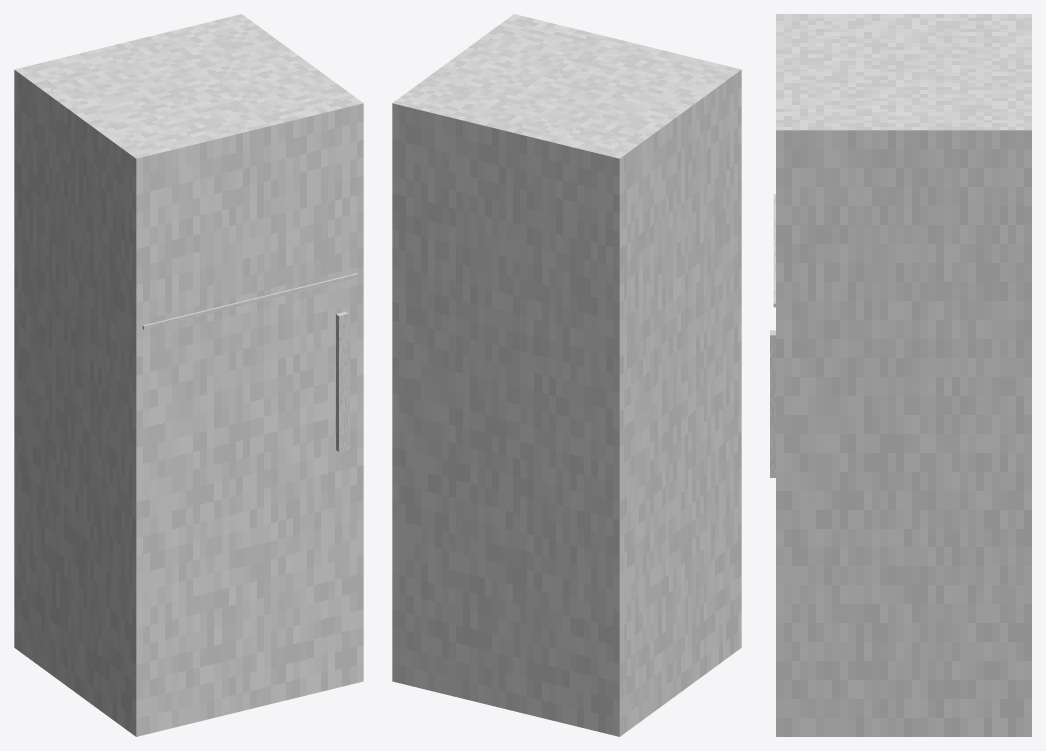
Rendered from refrigerator.obj.
The picture shows the model from 3 angles, left to right: view 1: azimuth 30°, elevation 25°; view 2: azimuth 150°, elevation 25°; view 3: azimuth 270°, elevation 25°; orthographic projection. The views are drawn at different scales.
Visible parts, largest first — view 1: part0, part2, part1; view 2: part0; view 3: part0, part2.
Part boxes in pixels (bbox=[...]): part0: bbox=[14, 14, 363, 736]; part2: bbox=[336, 311, 348, 451]; part1: bbox=[142, 273, 358, 329]; part0: bbox=[392, 14, 741, 736]; part0: bbox=[776, 14, 1031, 736]; part2: bbox=[770, 330, 775, 477].
Size of the model in its own units: 0.7 by 1.7 by 0.665.
3 materials, 3 textured.
